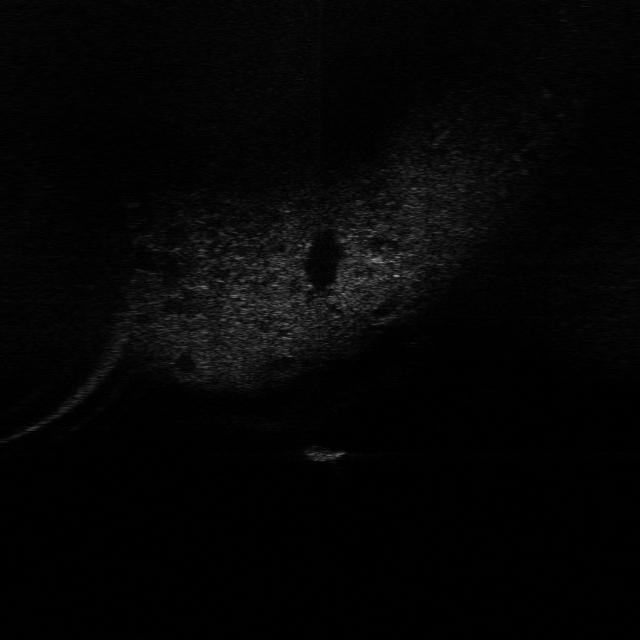cube: (297, 441, 347, 465)
